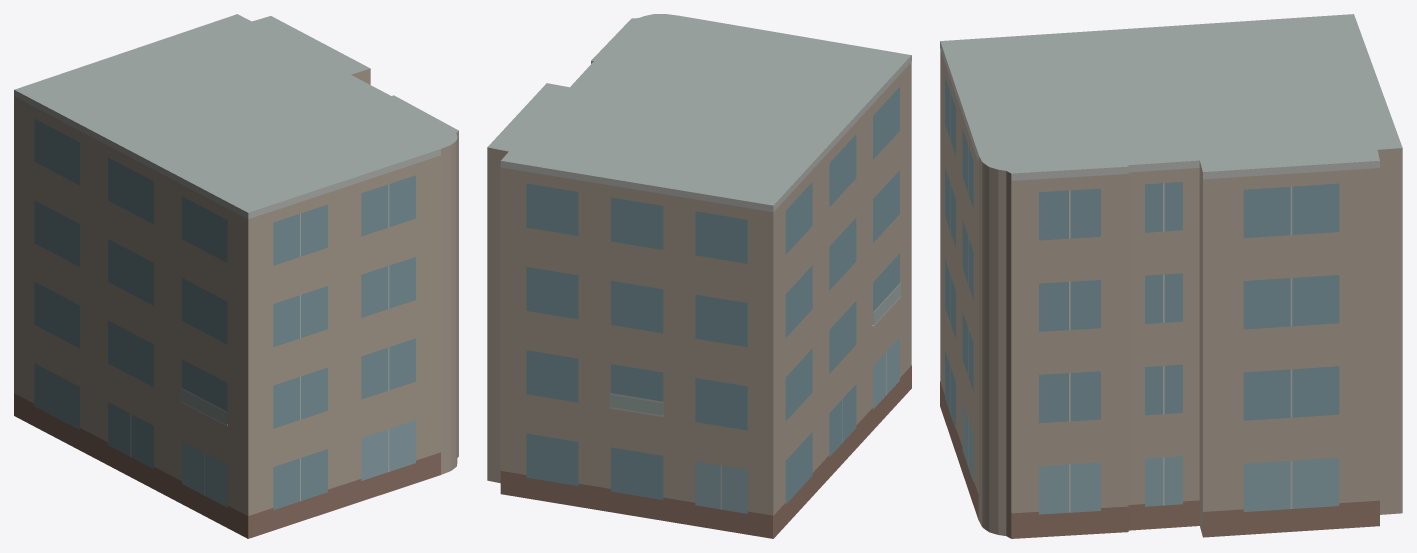
Rendered from survey-upis-32836932.glb.
The picture shows the model from 3 angles, left to right: view 1: azimuth 30°, elevation 25°; view 2: azimuth 150°, elevation 25°; view 3: azimuth 270°, elevation 25°; orthographic projection. The views are drawn at different scales.
Visible parts, largest first — view 1: survey-upis-32836932.tmp; view 2: survey-upis-32836932.tmp; view 3: survey-upis-32836932.tmp.
Boxes of the visible parts, <box> form: survey-upis-32836932.tmp: <box>14,14,458,538</box>; survey-upis-32836932.tmp: <box>487,14,911,538</box>; survey-upis-32836932.tmp: <box>940,14,1402,538</box>.
Bounding box in the file's own units: 11.52 × 12.29 × 14.11.
